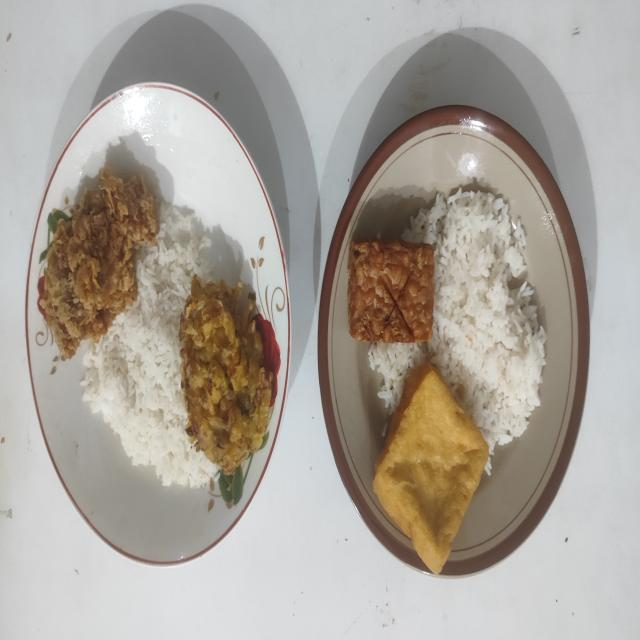nasi_putih: (368, 188, 547, 454), (78, 205, 220, 488)
tahu_goreng: (373, 361, 489, 573)
tempe_goreng: (348, 240, 434, 342)
